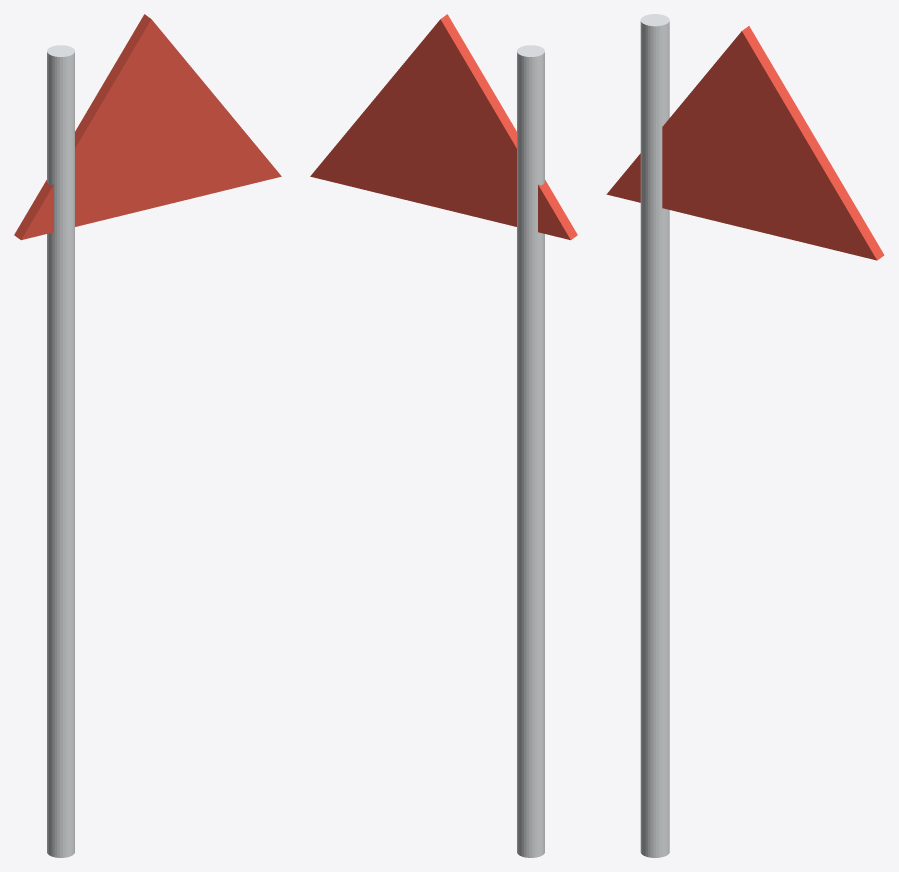
The model's file is goal_flag.glb.
3 renders of one model, left to right at view 1: azimuth 30°, elevation 25°; view 2: azimuth 150°, elevation 25°; view 3: azimuth 330°, elevation 25°, orthographic. The views are drawn at different scales.
Visible parts, largest first — view 1: goal_flag; view 2: goal_flag; view 3: goal_flag.
Part boxes in pixels (<box>): goal_flag: <box>14,14,281,857</box>; goal_flag: <box>310,14,577,857</box>; goal_flag: <box>606,14,884,857</box>.
Bounding box in the file's own units: 0.75 × 2.24 × 0.07.
